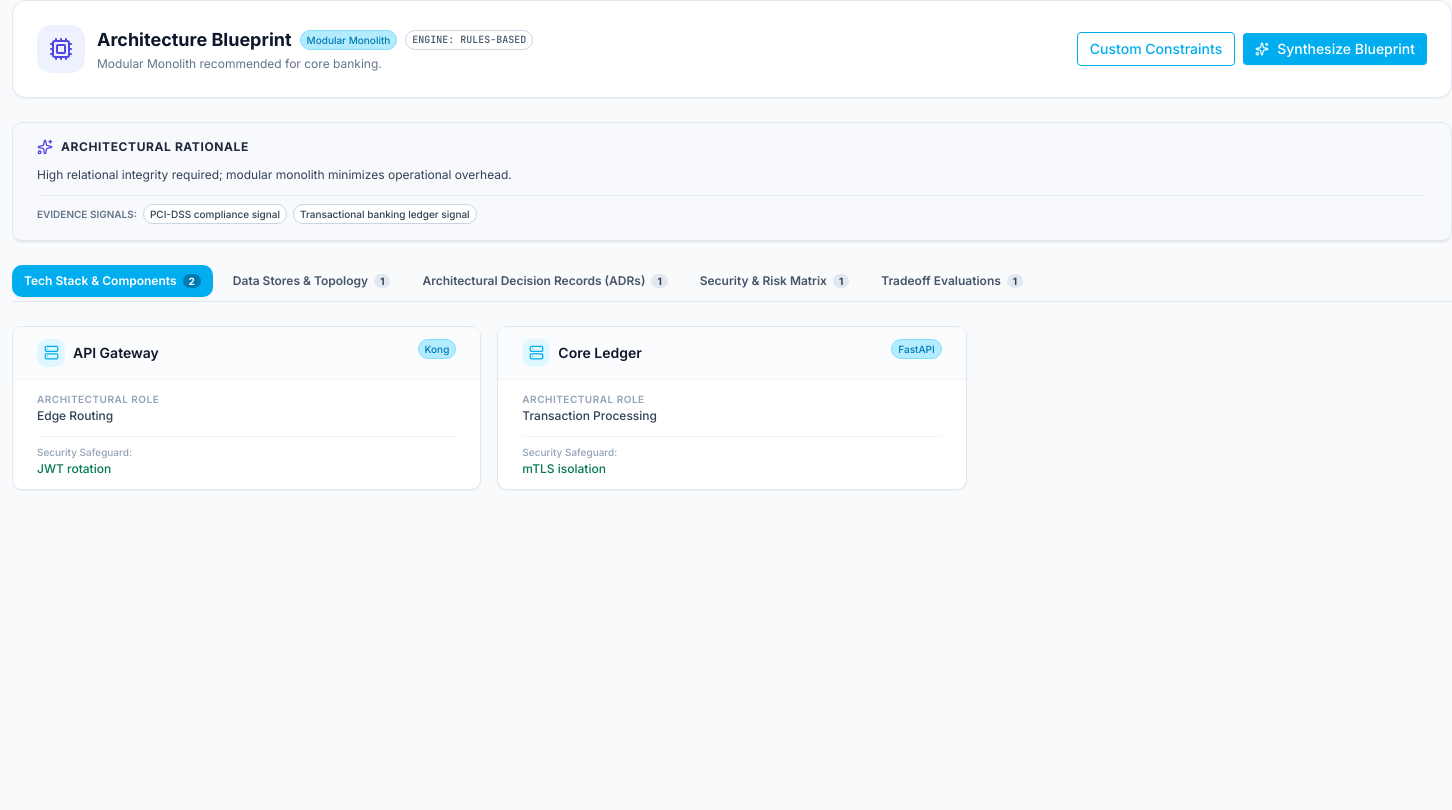
Test: ArchitecturePage Component (Engineer 3) › switches tabs and renders ADR details correctly
This screenshot has width=1452, height=810.
Step 1. Click the text "Architectural Decision Records (ADRs)" → (534, 280), box [422,272,645,288]
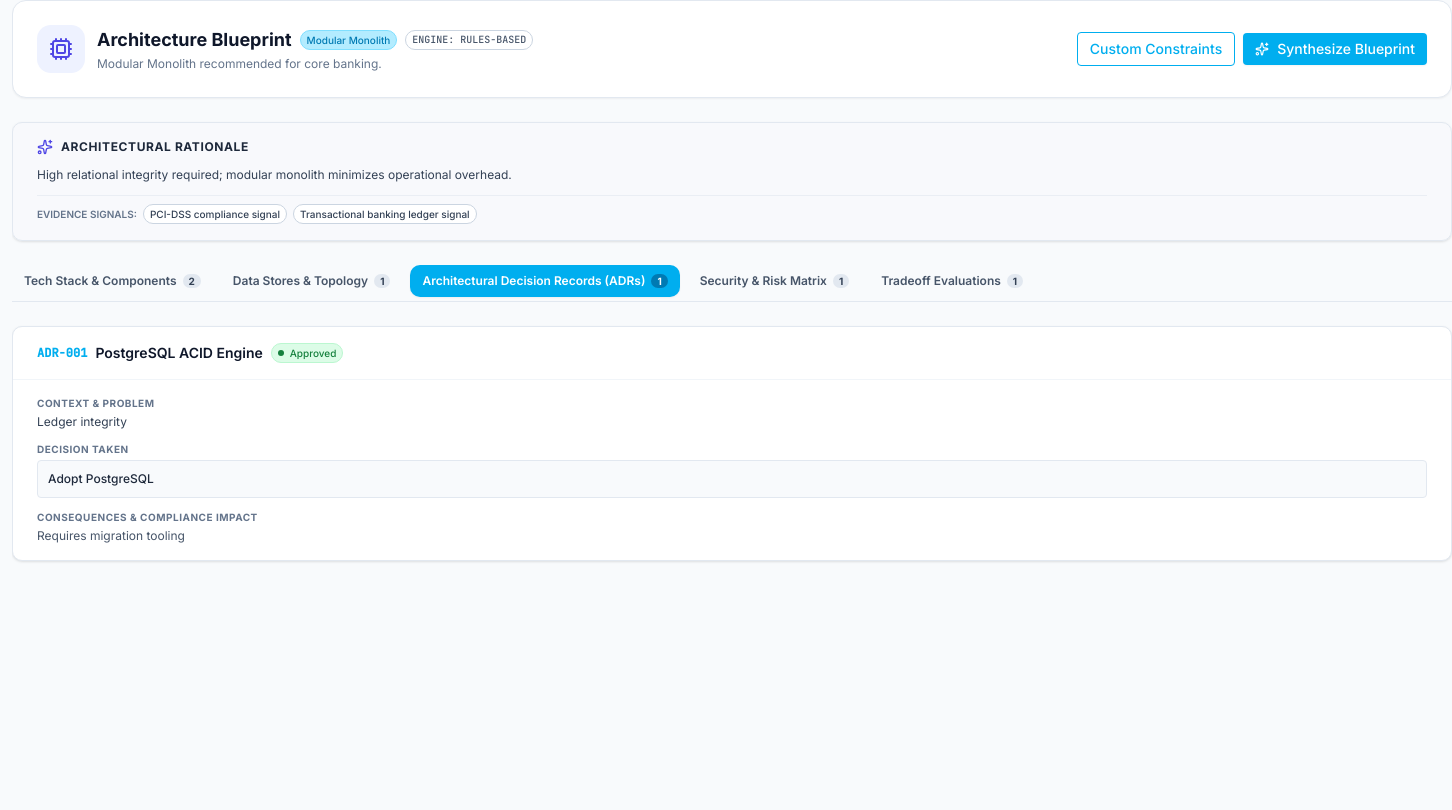
Expected: the text "ADR-001" is shown, [37,344,87,360]
Expected: the heading "PostgreSQL ACID Engine" is shown, [95,342,263,362]
Expected: the text "Adopt PostgreSQL" is shown, [37,460,1427,498]
